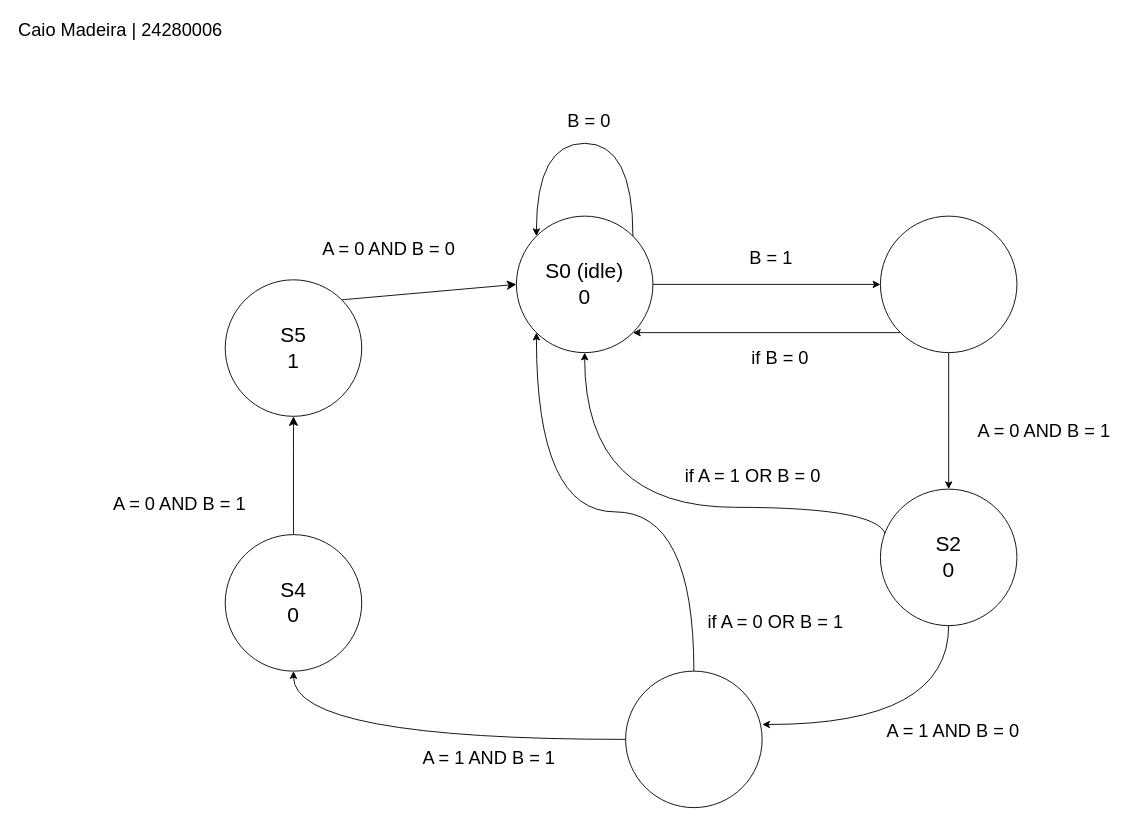
Image size: 1132x824. Some labels were removed from this diagram. The shapes that lost their labels are listed below. From the top down, each one's box as (x1, y1, x2, y2) in pixels, then its label:
(880, 215, 1017, 353): S1 0
(625, 670, 762, 808): S3 0
